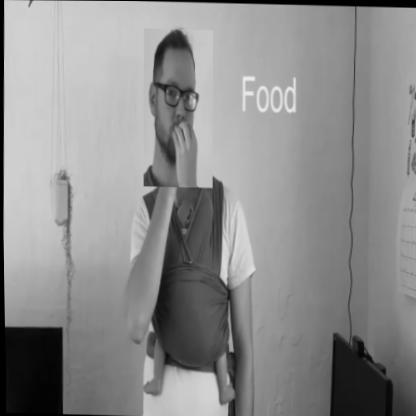Food: (141, 27, 215, 188)
